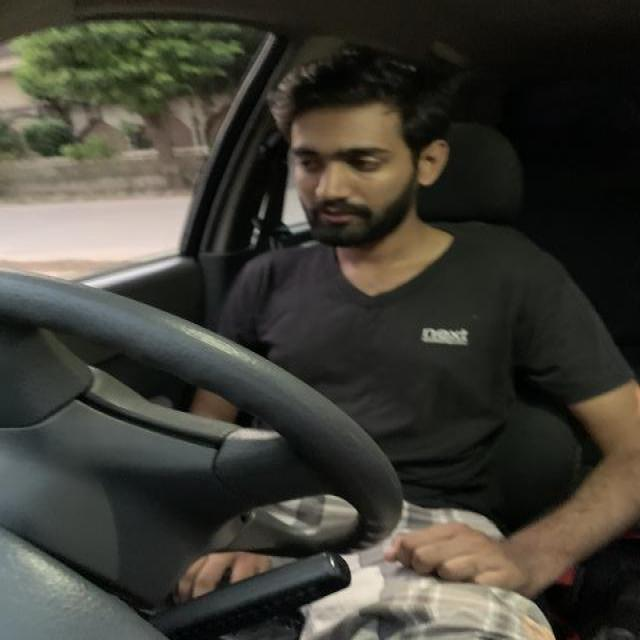no-seatbelt: (213, 131, 611, 595)
